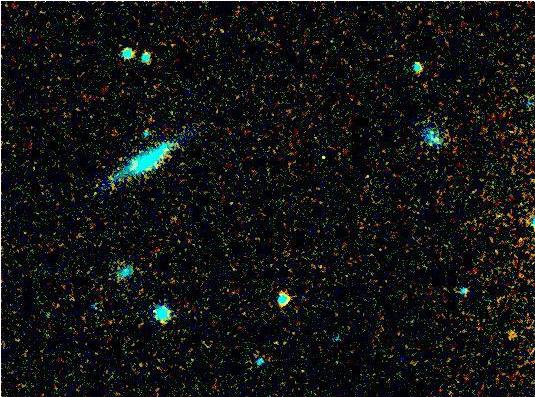star: (138, 146, 168, 176)
